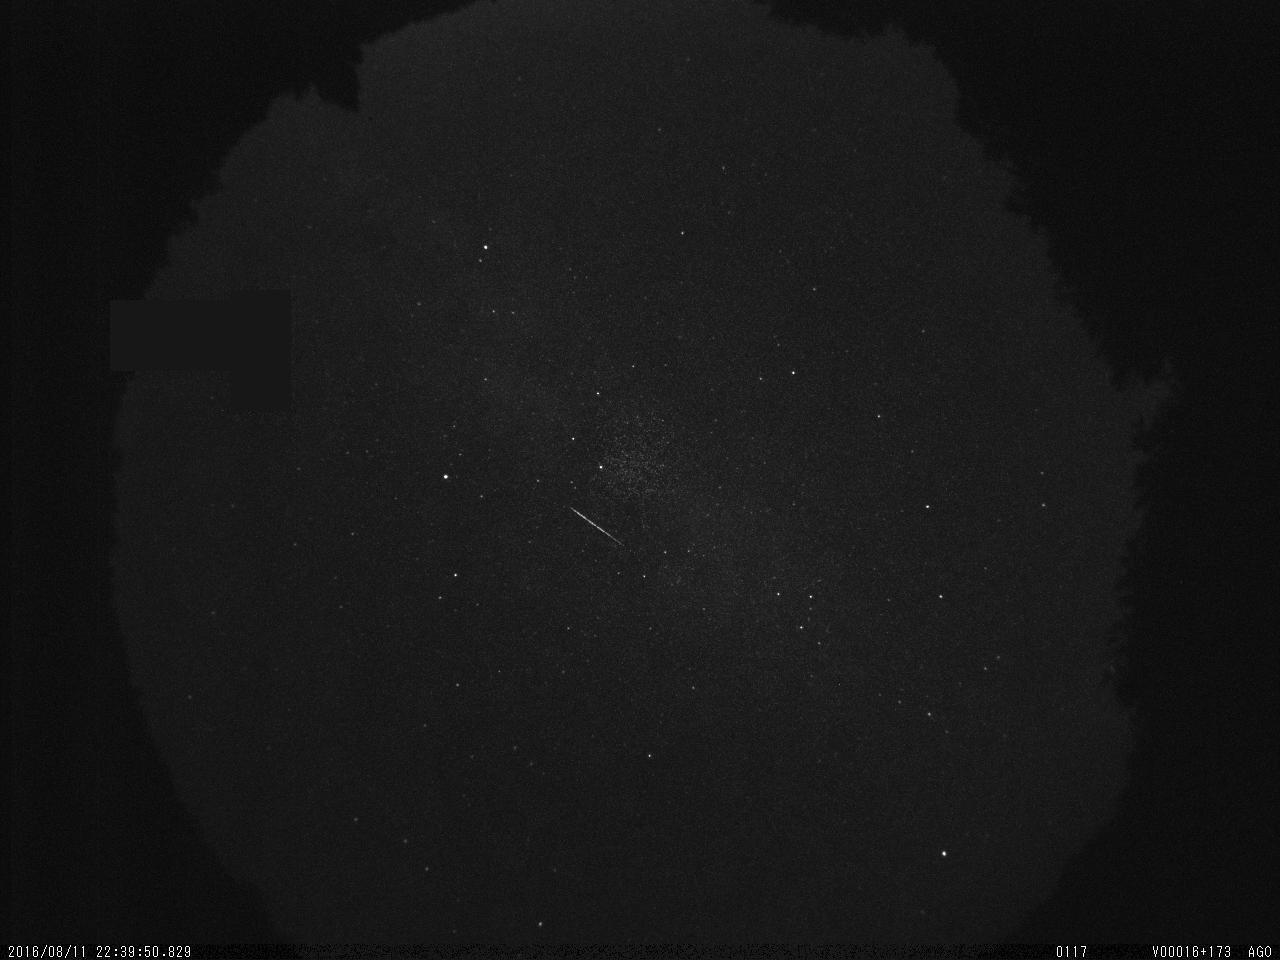meteor: (555, 501, 639, 554)
